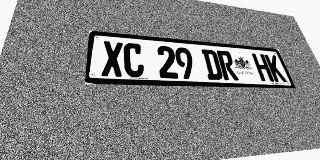2: (156, 45, 178, 79)
9: (174, 47, 196, 79)
C: (123, 42, 145, 78)
D: (201, 49, 224, 80)
H: (251, 53, 274, 82)
K: (264, 54, 287, 82)
R: (216, 50, 239, 81)
X: (101, 41, 123, 77)
